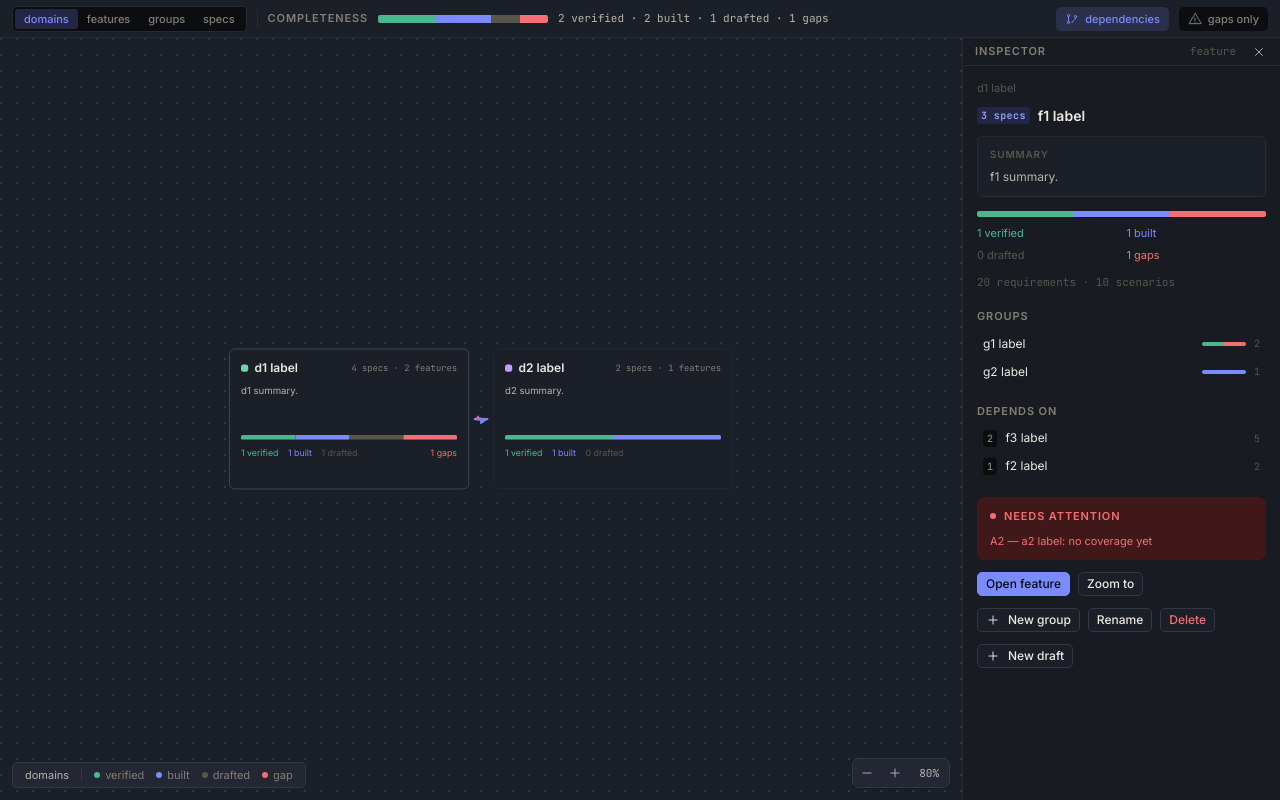
Scenario: creating a node (SMO-FR-UAKE, SMO-FR-HCQN, SMO-FR-NXDL) › SMO-FR-NXDL, SMO-FR-CZLA: a created node is the last child, selected, shown at its level, and saved
This screenshot has width=1280, height=800.
Click the button "New group" at (1028, 620), box 977,608 -> 1080,632
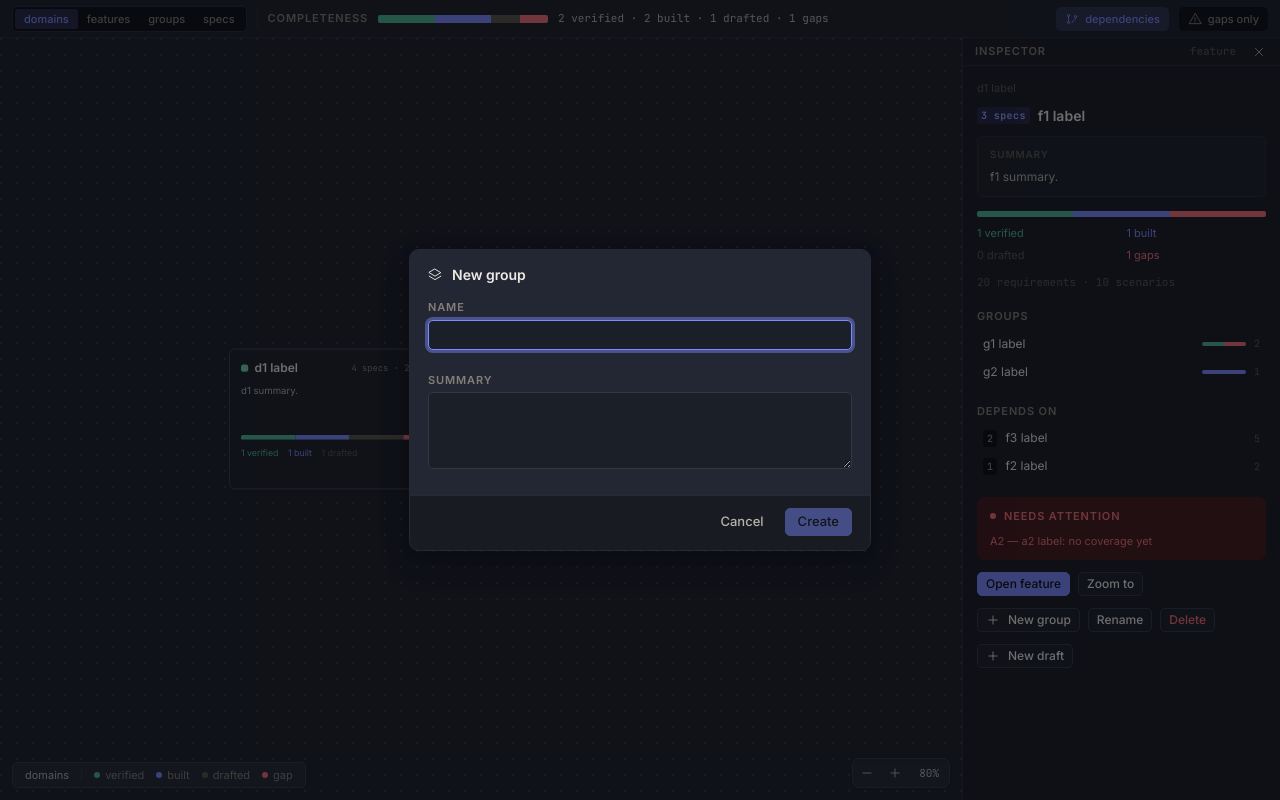
Type " planning " into the field labelled "Name" at (640, 335), box 428,320 -> 852,350
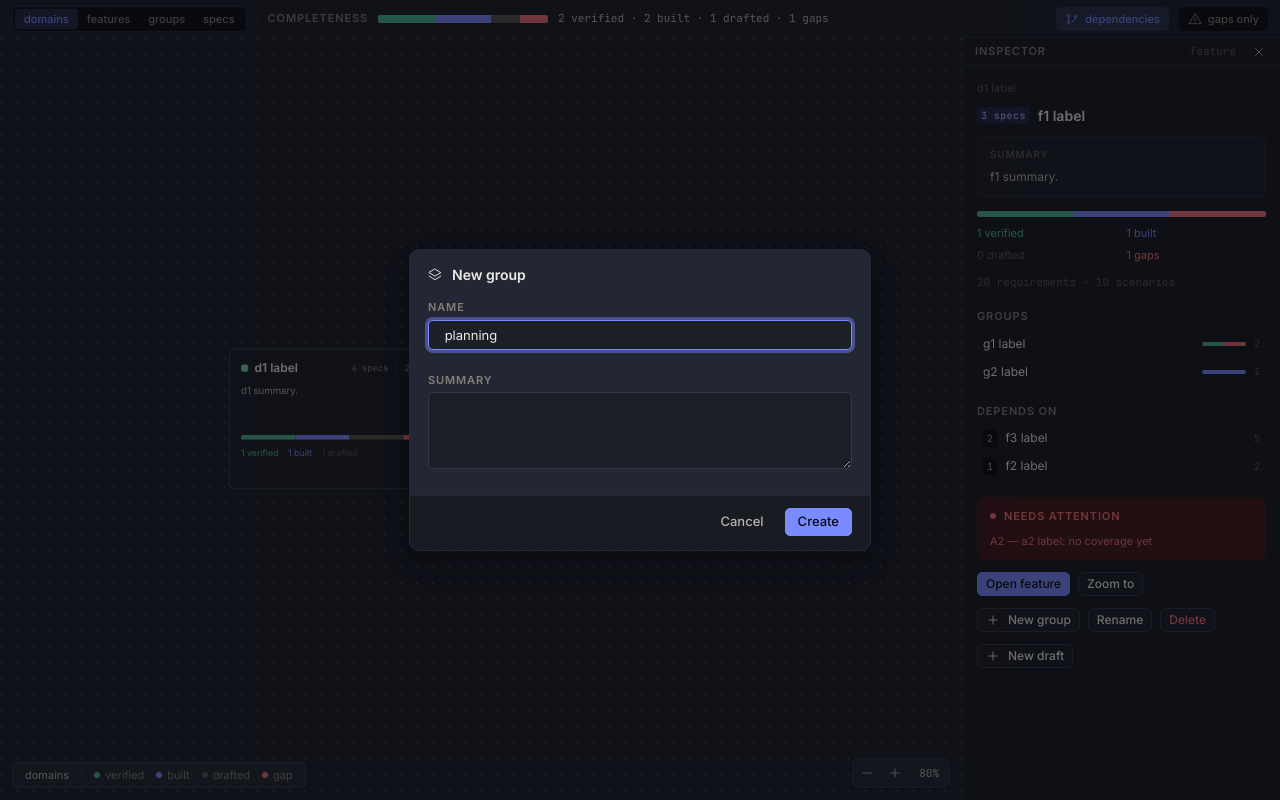
Type "Work ahead." into the text box labelled "Summary" at (640, 431), box 428,392 -> 852,469
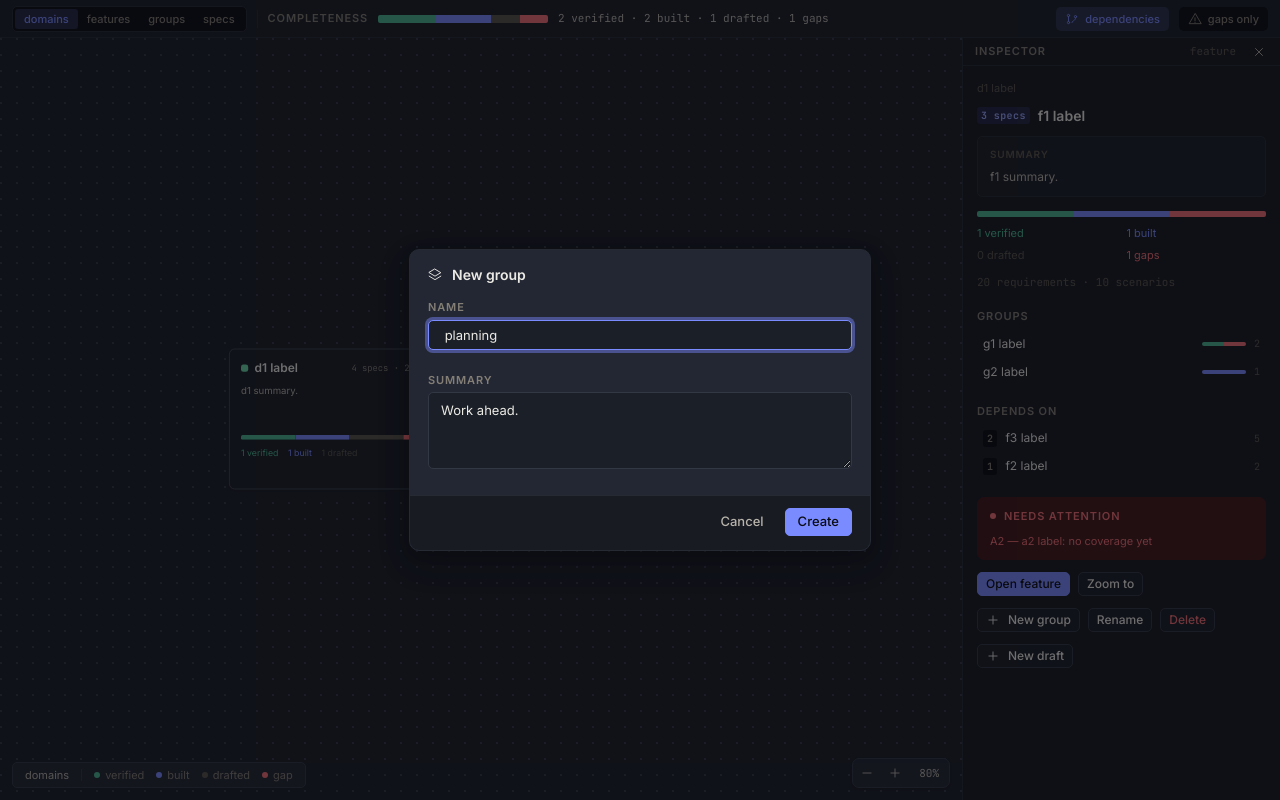
Click the button "Create" at (818, 522), box 785,508 -> 852,536
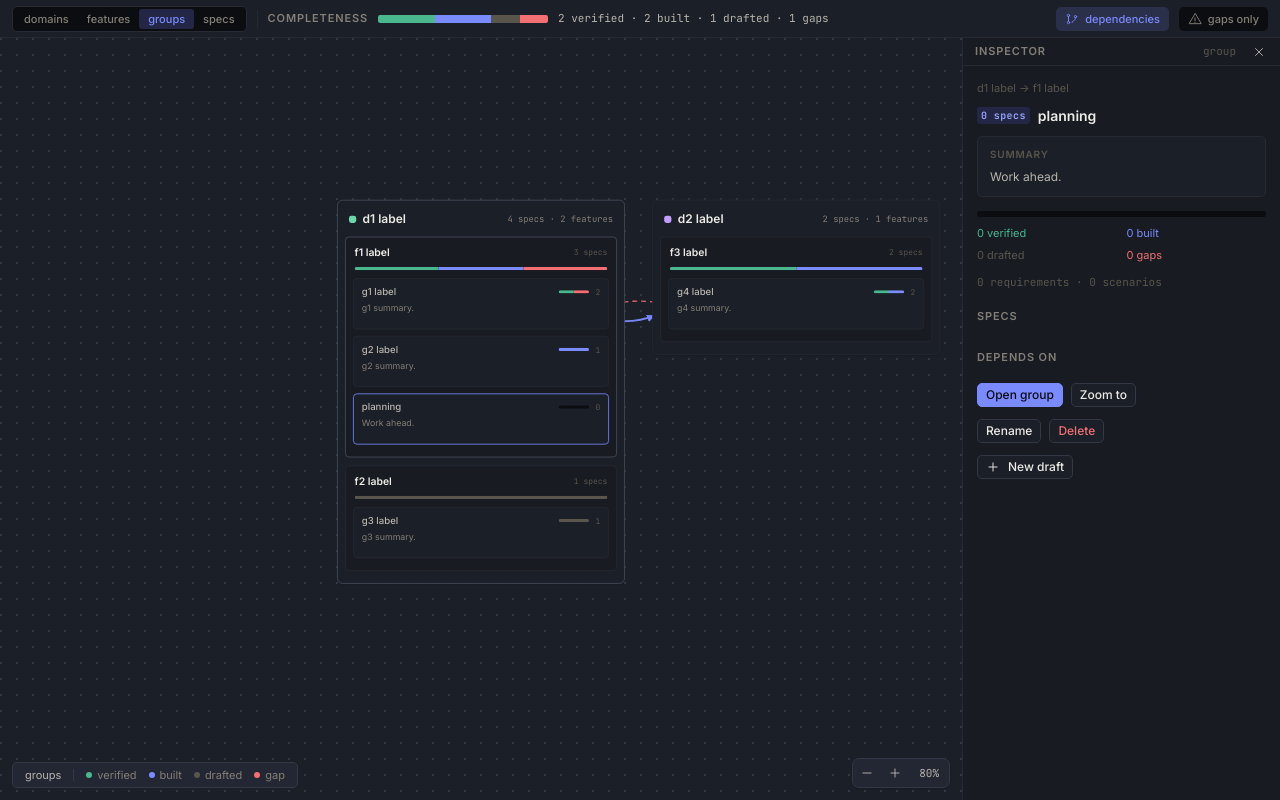
Expected: the dialog is gone
